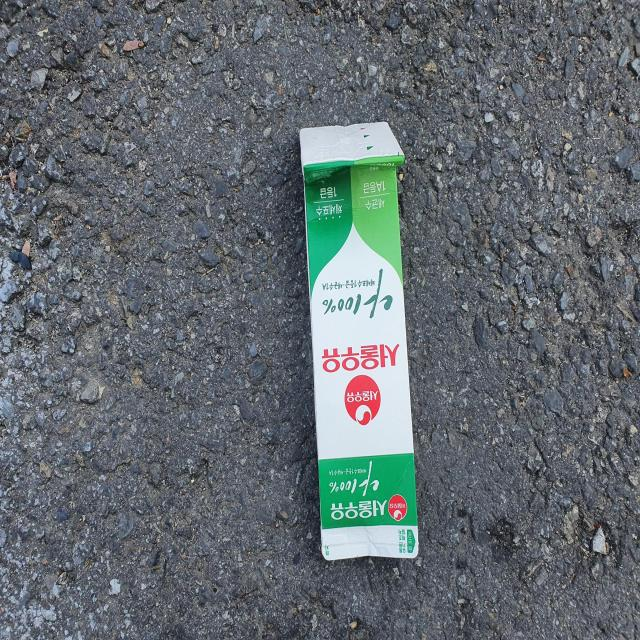paperpack: (300, 121, 419, 561)
